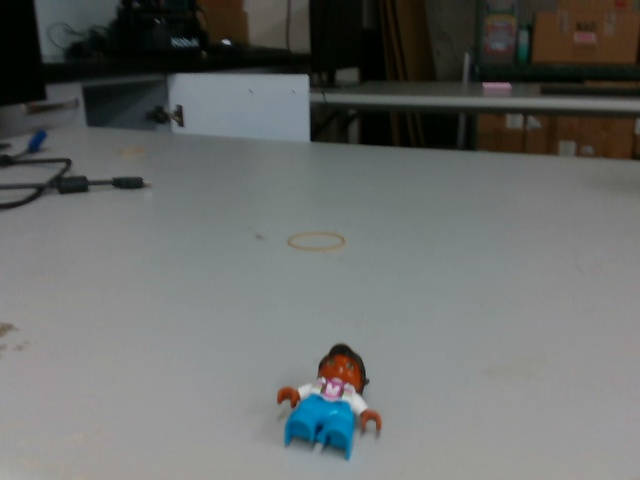people: (272, 342, 385, 461)
